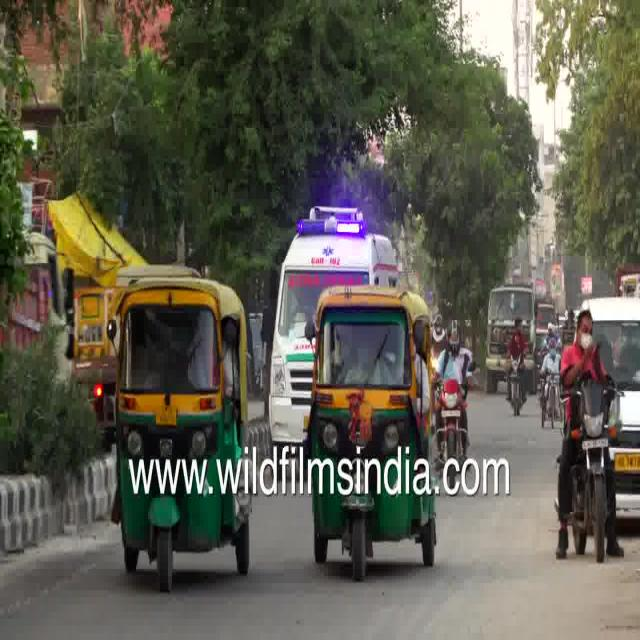ambulance: (277, 205, 404, 451)
